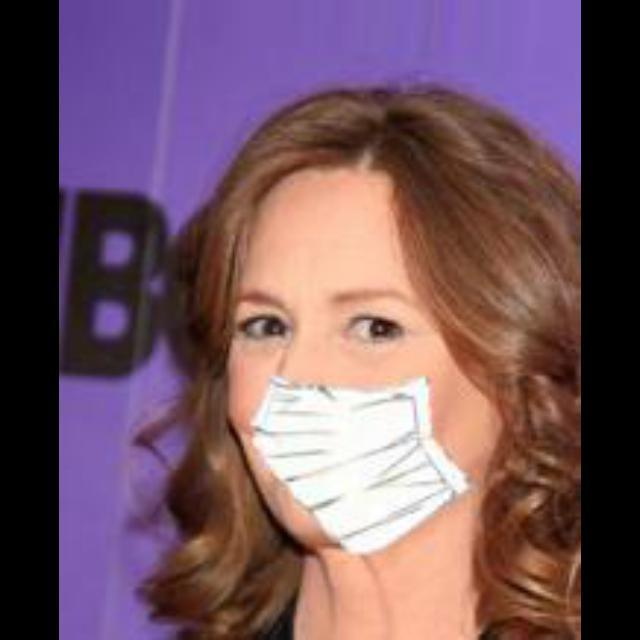suspicion: (207, 134, 515, 554)
